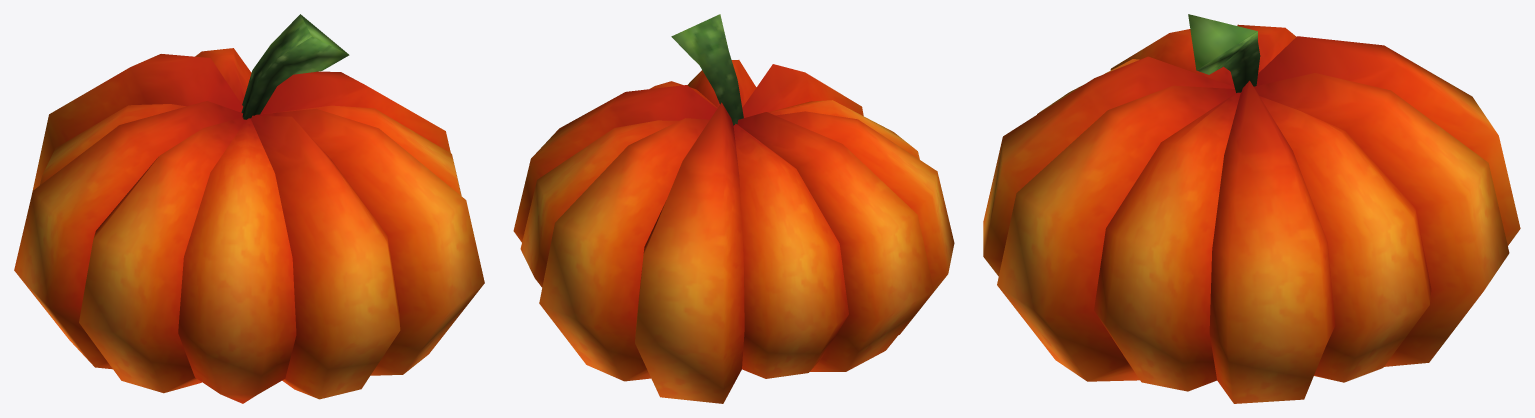
The model's file is pumpkin2.glb.
3 views of the same model, side by side, from view 1: azimuth 30°, elevation 25°; view 2: azimuth 150°, elevation 25°; view 3: azimuth 270°, elevation 25° (orthographic). The views are drawn at different scales.
Visible parts, largest first — view 1: Pumpkin_01; view 2: Pumpkin_01; view 3: Pumpkin_01.
Boxes of the visible parts, x1=… form: Pumpkin_01: x1=14, y1=14, x2=484, y2=403; Pumpkin_01: x1=513, y1=14, x2=954, y2=403; Pumpkin_01: x1=983, y1=14, x2=1520, y2=403.
Size of the model in its own units: 2.45 by 1.97 by 2.52.
1 material, 1 textured.
